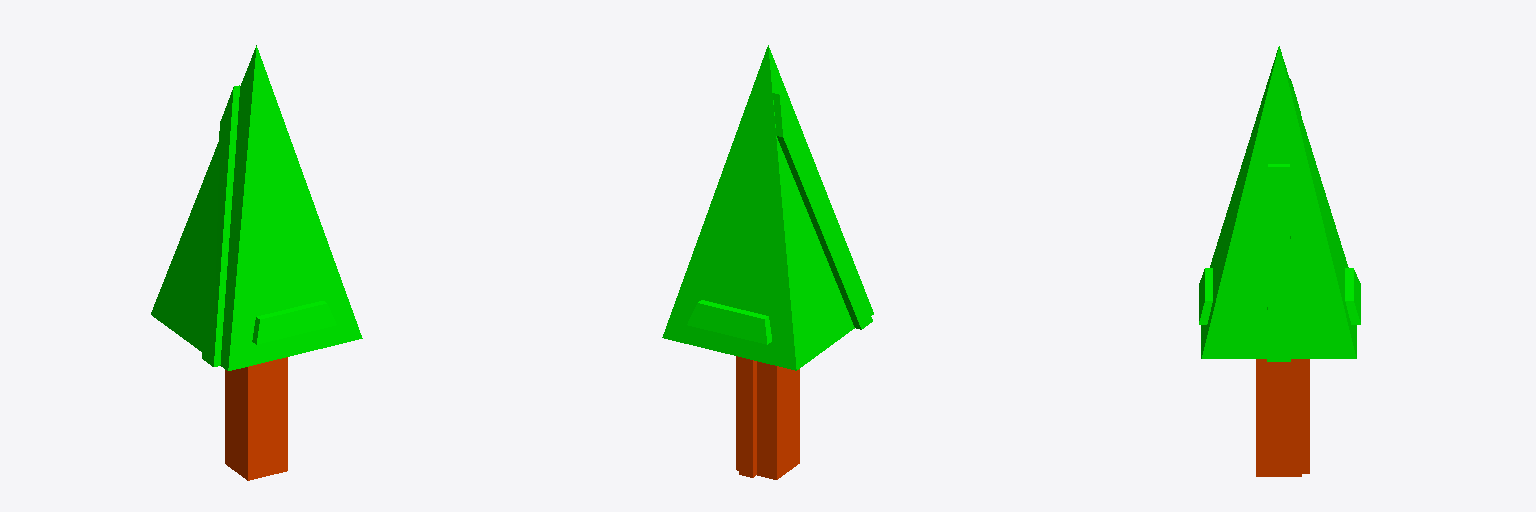
Rendered from pine-tree.obj.
The picture shows the model from 3 angles: view 1: azimuth 30°, elevation 25°; view 2: azimuth 150°, elevation 25°; view 3: azimuth 270°, elevation 25°; orthographic projection.
Visible parts, largest first — view 1: Dark-Green_Cube, Neon-Green_Cube.002, Dark-Orange_Cube.005; view 2: Dark-Green_Cube, Neon-Green_Cube.002, Dark-Orange_Cube.005, Neon-Orange_Cube.006; view 3: Dark-Green_Cube, Neon-Green_Cube.002, Dark-Orange_Cube.005, Neon-Orange_Cube.006.
Boxes of the visible parts, x1,y1,x2,y2 form: Dark-Green_Cube: [151, 45, 362, 370]; Neon-Green_Cube.002: [202, 85, 336, 366]; Dark-Orange_Cube.005: [225, 357, 287, 480]; Dark-Green_Cube: [662, 45, 873, 370]; Neon-Green_Cube.002: [687, 93, 872, 344]; Dark-Orange_Cube.005: [736, 356, 799, 479]; Neon-Orange_Cube.006: [739, 357, 756, 477]; Dark-Green_Cube: [1201, 46, 1356, 358]; Neon-Green_Cube.002: [1199, 79, 1360, 361]; Dark-Orange_Cube.005: [1256, 359, 1301, 476]; Neon-Orange_Cube.006: [1302, 359, 1309, 473].
Size of the model in its own units: 2.19 by 6 by 2.1.